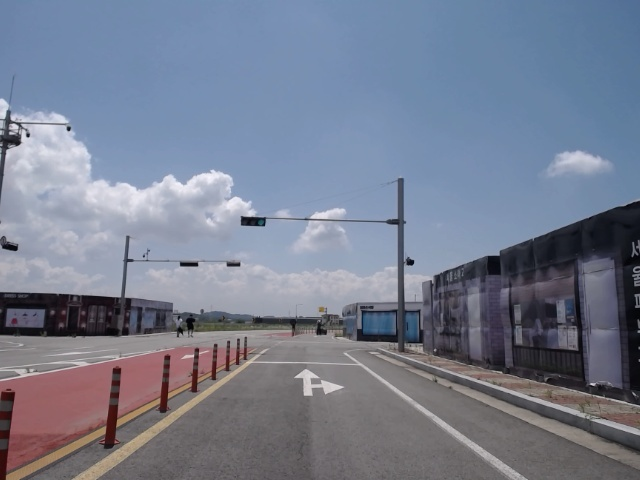green_3: (241, 217, 266, 227)
